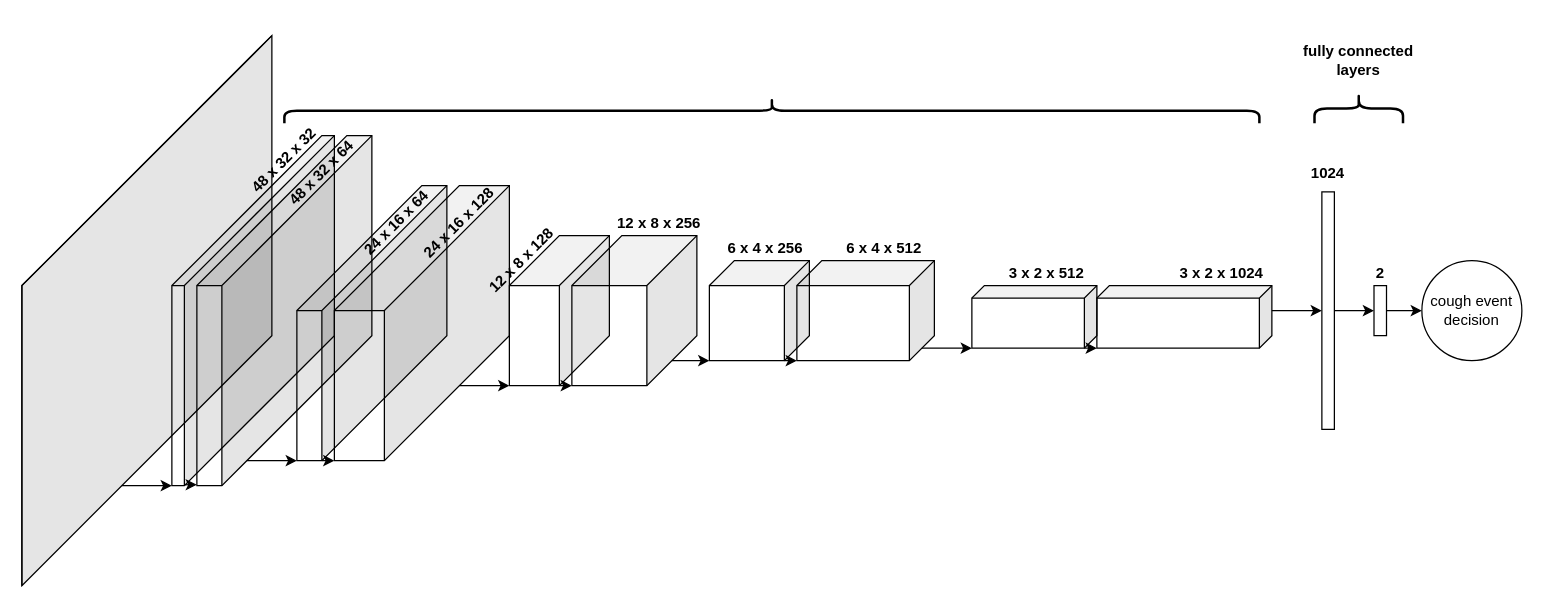
Image size: 1544x608. Some labels were removed from this diagram. Here are the shapes that lost their labels. From the top down, the box of each, then its label:
(282, 96, 1260, 124): convolution layers
(21, 34, 272, 586): input 96 x 64 x 1
